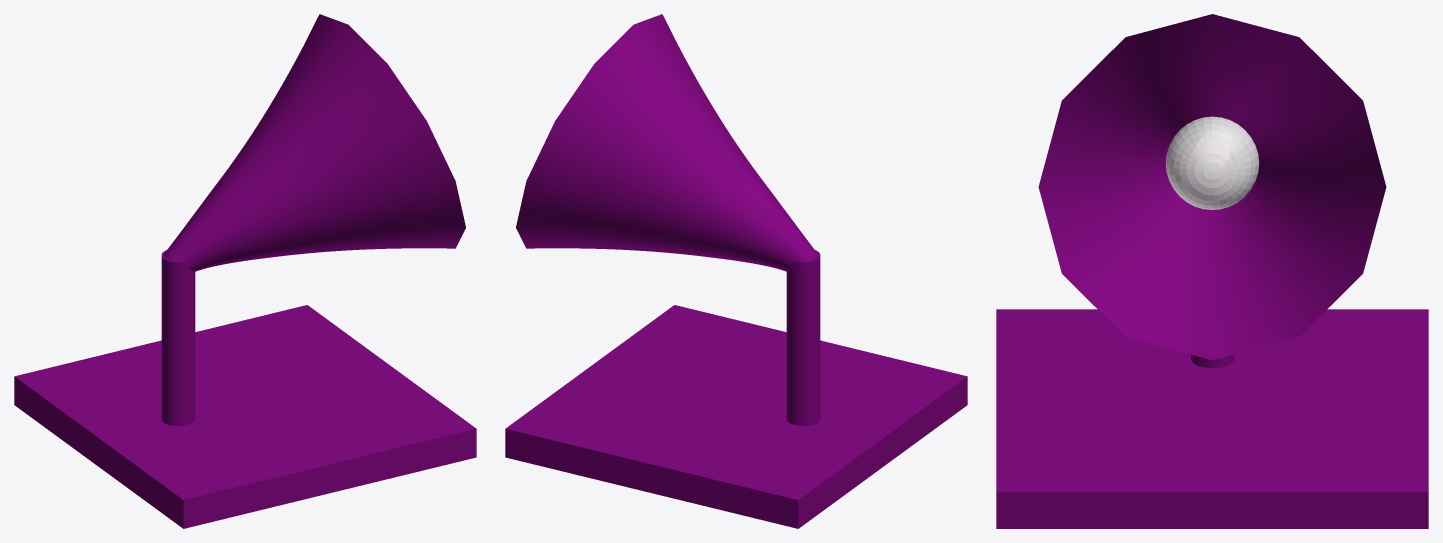
The model's file is light.glb.
3 views of the same model, side by side, from view 1: azimuth 30°, elevation 25°; view 2: azimuth 150°, elevation 25°; view 3: azimuth 270°, elevation 25° (orthographic). The views are drawn at different scales.
Visible parts, largest first — view 1: Cube, NurbsPath, Cylinder; view 2: Cube, NurbsPath, Cylinder; view 3: Cube, NurbsPath, Sphere.
Boxes of the visible parts, box(x1,y1,x2,y2) form: Cube: box(14, 305, 476, 528); NurbsPath: box(164, 14, 465, 271); Cylinder: box(161, 250, 195, 425); Cube: box(505, 305, 967, 528); NurbsPath: box(516, 14, 817, 271); Cylinder: box(786, 250, 820, 425); Cube: box(996, 309, 1428, 528); NurbsPath: box(1038, 14, 1386, 359); Sphere: box(1165, 116, 1259, 209).
Size of the model in its own units: 2.24 by 2.49 by 2.
